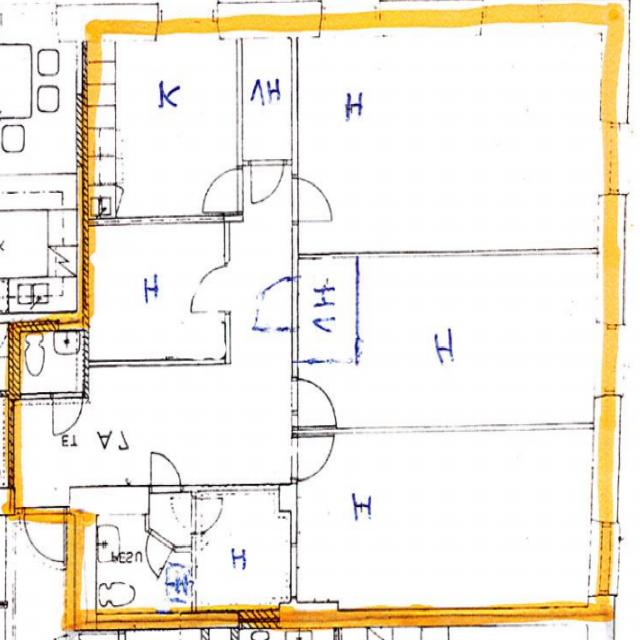door: (24, 506, 64, 564), (251, 279, 297, 328), (187, 265, 230, 311), (292, 434, 334, 479), (201, 168, 242, 212), (137, 530, 174, 578), (292, 378, 332, 422), (292, 178, 332, 221), (251, 160, 284, 206), (150, 448, 180, 492), (53, 392, 82, 433), (192, 498, 225, 531)
